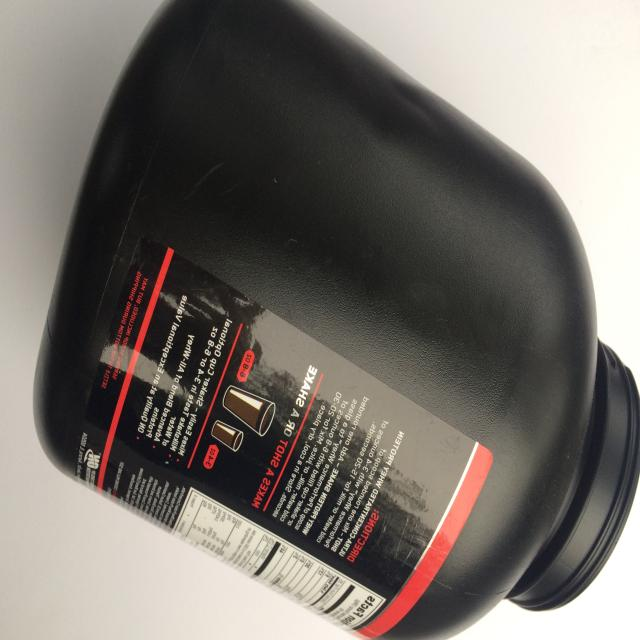plastic: (31, 0, 640, 640)
